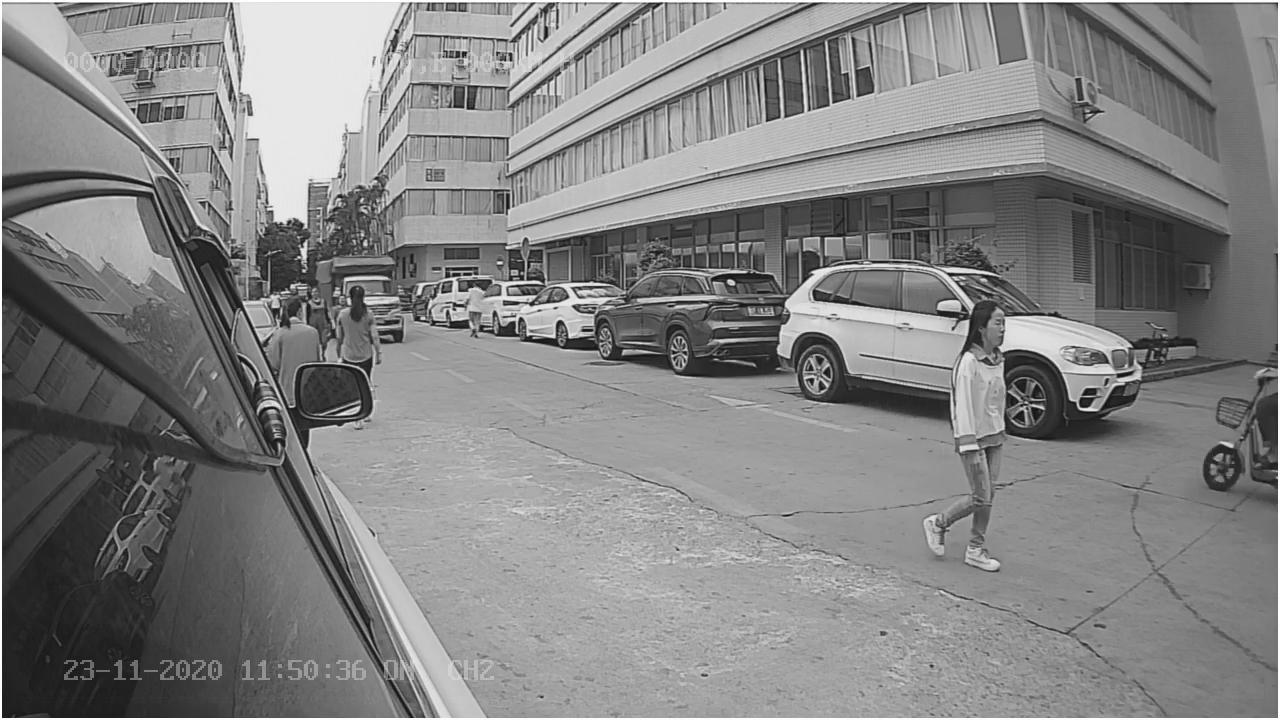person: (924, 295, 1016, 572)
